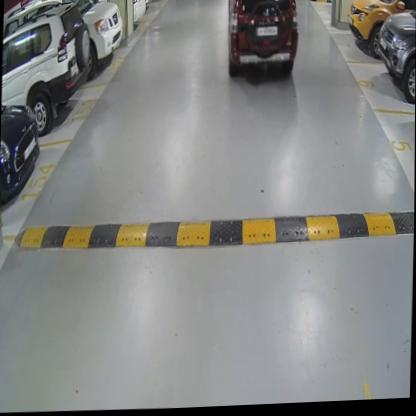np: (255, 28, 277, 38)
